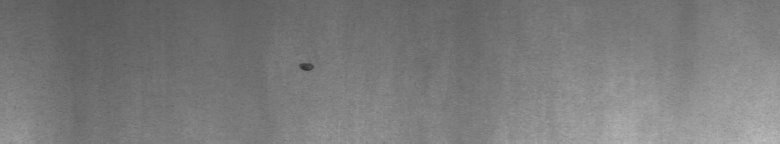fi: (296, 54, 316, 79)
